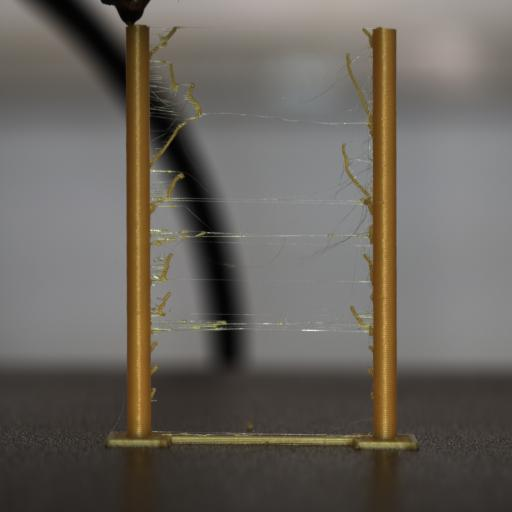stringing: (343, 141, 372, 203), (346, 50, 371, 121), (151, 171, 185, 216), (149, 26, 180, 64), (150, 248, 173, 293), (184, 82, 202, 117), (350, 305, 372, 330), (363, 252, 373, 286), (199, 320, 229, 330), (362, 28, 372, 46), (150, 364, 158, 377), (150, 340, 158, 353), (366, 366, 374, 378), (149, 202, 157, 214), (150, 387, 156, 399), (152, 328, 164, 333), (152, 240, 162, 246), (368, 345, 374, 353), (370, 391, 374, 401), (150, 329, 154, 335)
